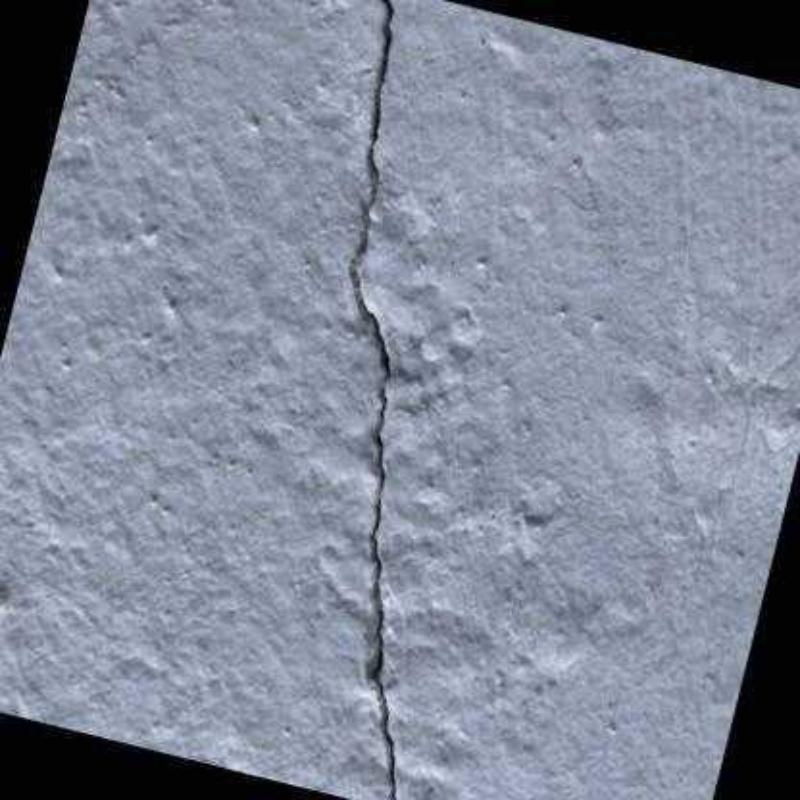pothole: (347, 0, 400, 800)
